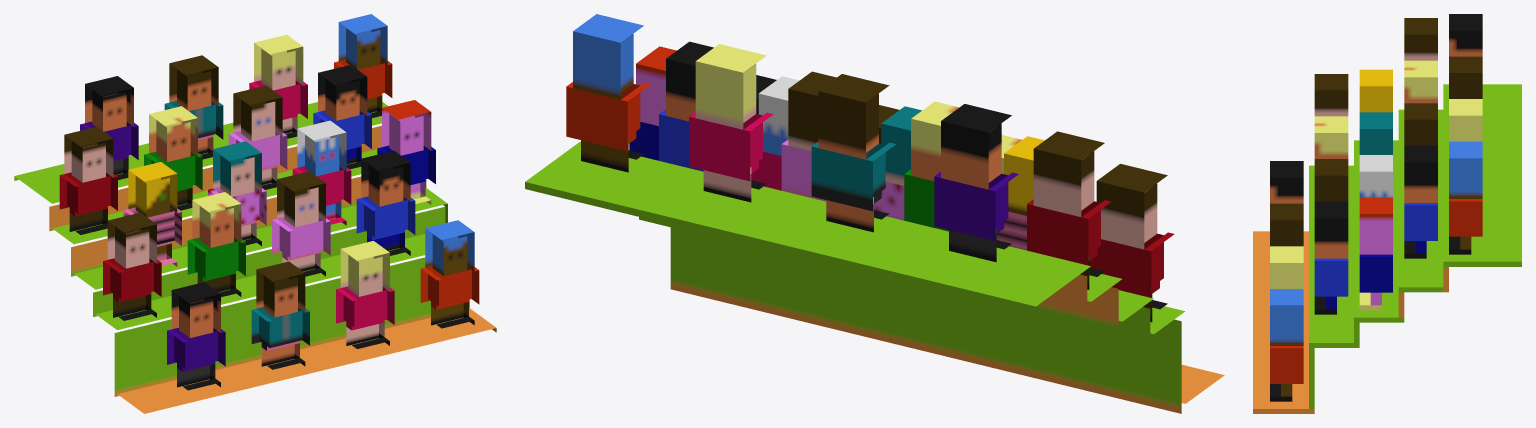
File: barra_right.fbx
The picture shows the model from 3 angles, left to right: view 1: azimuth 30°, elevation 25°; view 2: azimuth 150°, elevation 25°; view 3: azimuth 270°, elevation 25°; orthographic projection. The views are drawn at different scales.
Visible parts, largest first — view 1: graderia_2, v, x, a, z, c, a_1, f, s, d, d_1, f_1 (+9 smaller); view 2: graderia_2, c_2, v_2, x_2, z_2, a_1, a, d_1, s_1, f_1, w, e (+2 smaller); view 3: graderia_2, f, f_1, v_2, r, v, d, s, a, x, s_1, q (+9 smaller).
Boxes of the visible parts, x1=… form: graderia_2: x1=14, y1=102, x2=496, y2=413; v: x1=420, y1=220, x2=479, y2=328; x: x1=251, y1=261, x2=309, y2=369; a: x1=103, y1=212, x2=161, y2=320; z: x1=167, y1=282, x2=225, y2=390; c: x1=336, y1=241, x2=394, y2=348; a_1: x1=59, y1=127, x2=117, y2=234; f: x1=356, y1=150, x2=415, y2=255; s: x1=187, y1=192, x2=245, y2=297; d: x1=272, y1=171, x2=330, y2=276; d_1: x1=228, y1=85, x2=287, y2=189; f_1: x1=313, y1=65, x2=371, y2=169; graderia_2: x1=525, y1=141, x2=1224, y2=413; c_2: x1=689, y1=44, x2=773, y2=202; v_2: x1=566, y1=14, x2=650, y2=172; x_2: x1=811, y1=74, x2=895, y2=232; z_2: x1=934, y1=104, x2=1018, y2=262; a_1: x1=1027, y1=131, x2=1111, y2=289; a: x1=1090, y1=164, x2=1174, y2=322; d_1: x1=781, y1=71, x2=836, y2=201; s_1: x1=904, y1=101, x2=959, y2=231; f_1: x1=659, y1=41, x2=713, y2=171; w: x1=874, y1=106, x2=921, y2=220; e: x1=751, y1=76, x2=799, y2=190; graderia_2: x1=1253, y1=84, x2=1521, y2=413; f: x1=1314, y1=201, x2=1348, y2=314; f_1: x1=1404, y1=145, x2=1437, y2=258; v_2: x1=1449, y1=141, x2=1482, y2=254; r: x1=1359, y1=197, x2=1392, y2=310; v: x1=1270, y1=289, x2=1303, y2=401; d: x1=1314, y1=159, x2=1348, y2=201; s: x1=1314, y1=116, x2=1348, y2=158; a: x1=1314, y1=74, x2=1348, y2=116; x: x1=1270, y1=203, x2=1303, y2=246; s_1: x1=1404, y1=60, x2=1437, y2=103; q: x1=1359, y1=69, x2=1392, y2=112.
Bounding box in the file's own units: 75 × 49 × 48.
